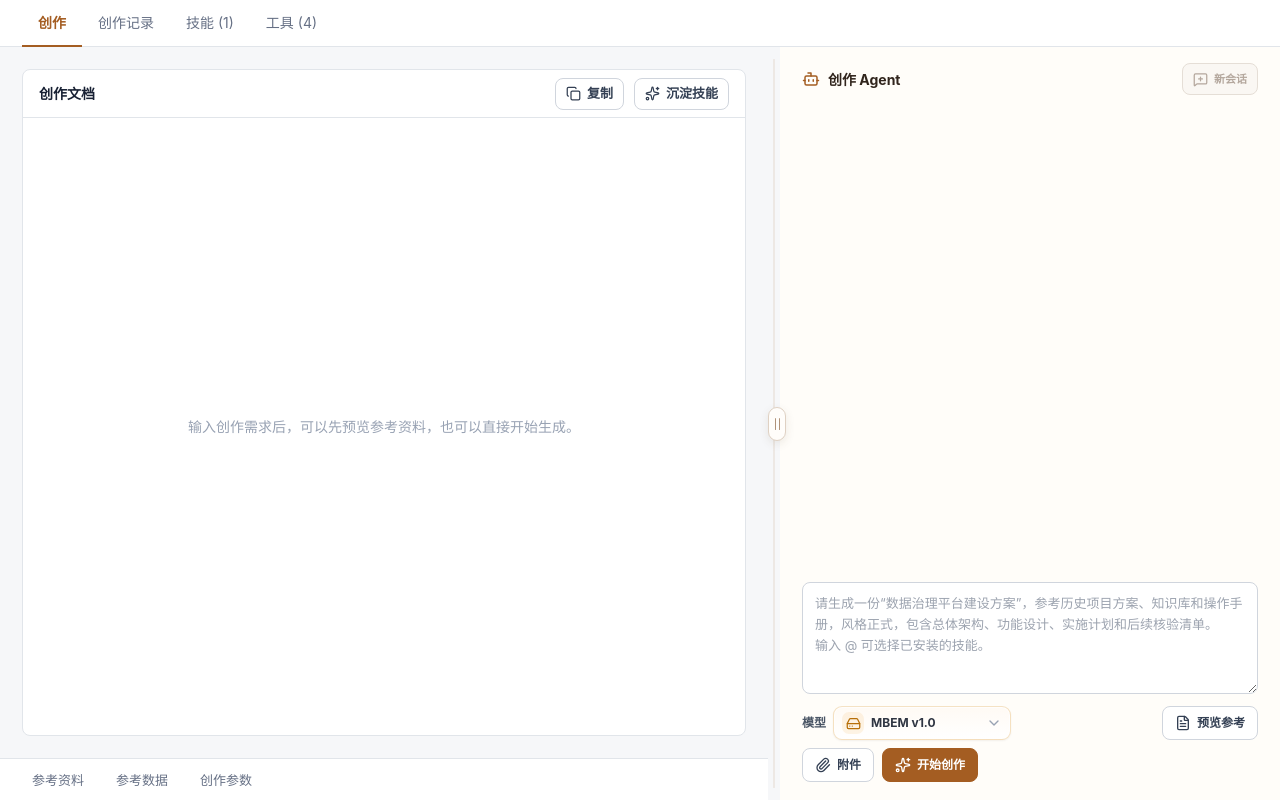
Test: 技能安装与使用 › 删除技能前要求二次确认
This screenshot has width=1280, height=800.
Click the button "技能 (1)" at coordinates (210, 24), box [170,0,250,47]
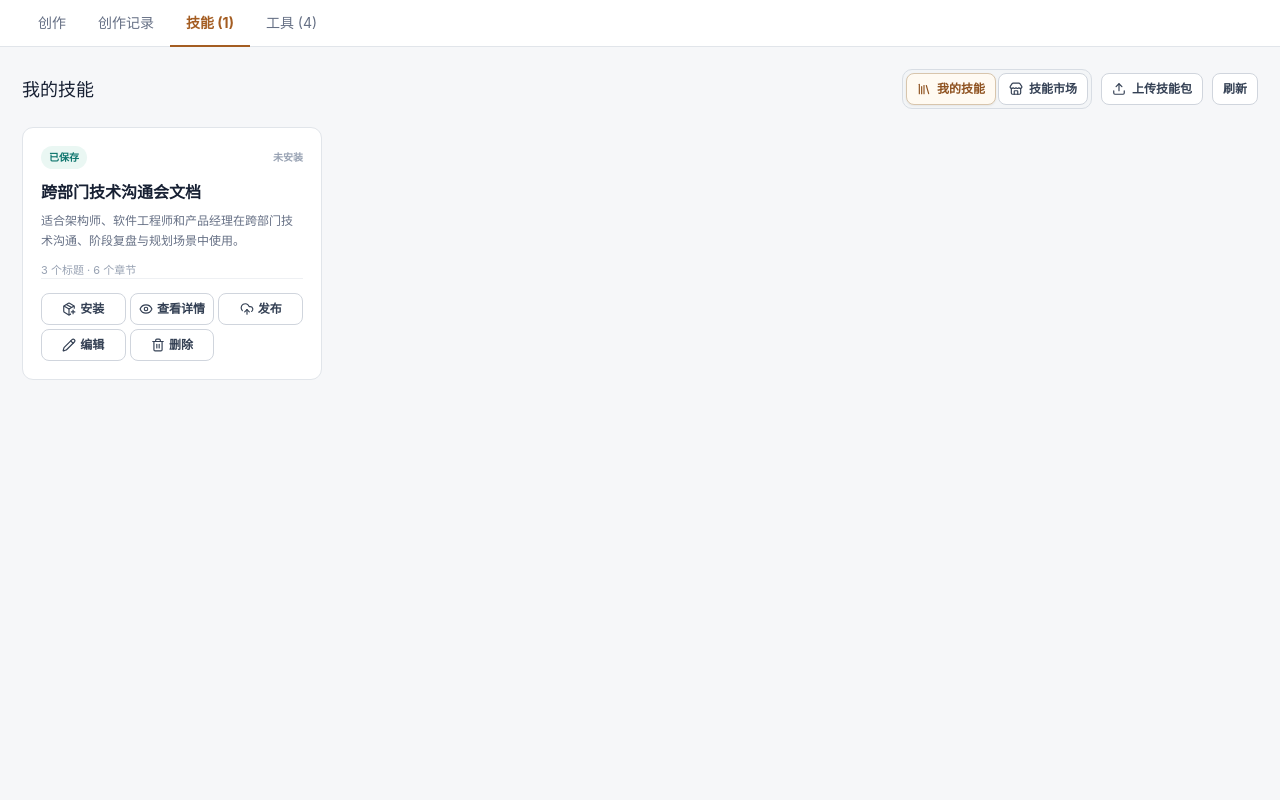
Click the button "删除" at coordinates (172, 345), box [130,329,214,361]
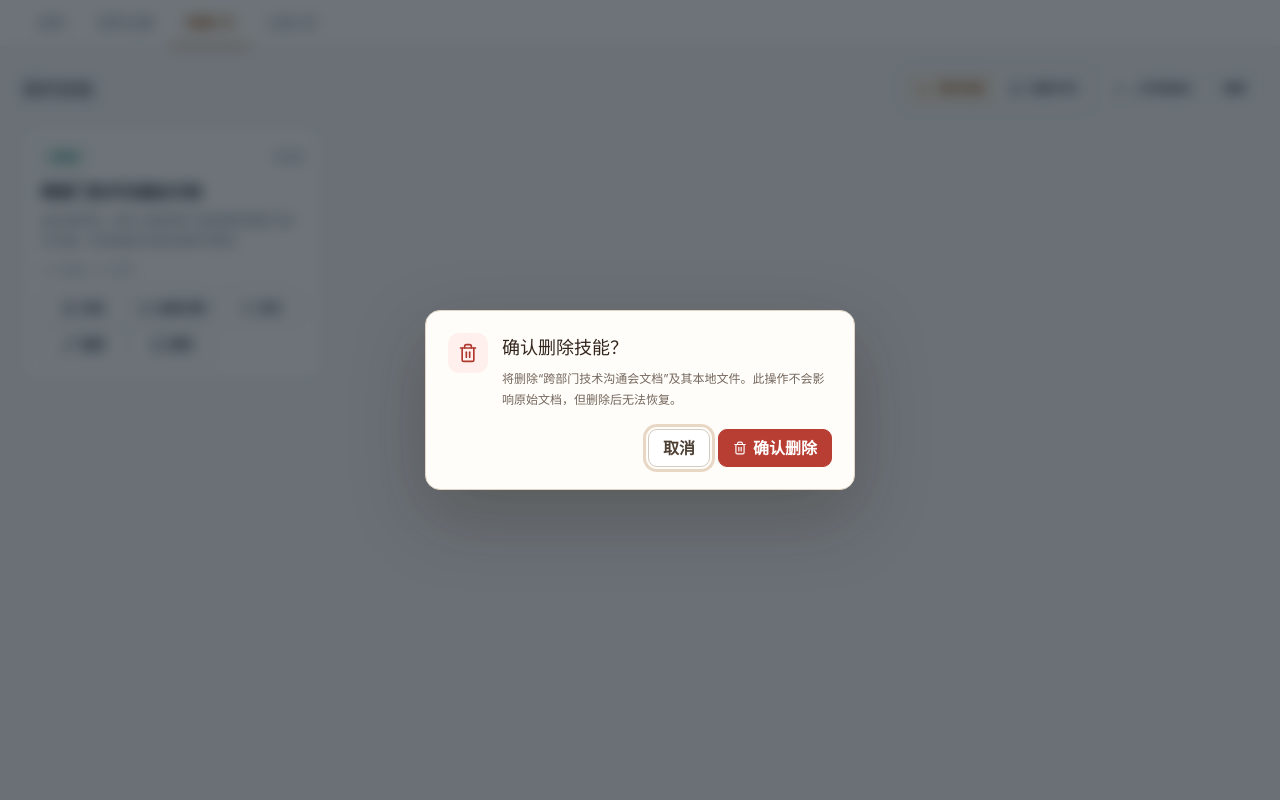
Click the button "取消" at coordinates (679, 448), box [648,429,710,467]
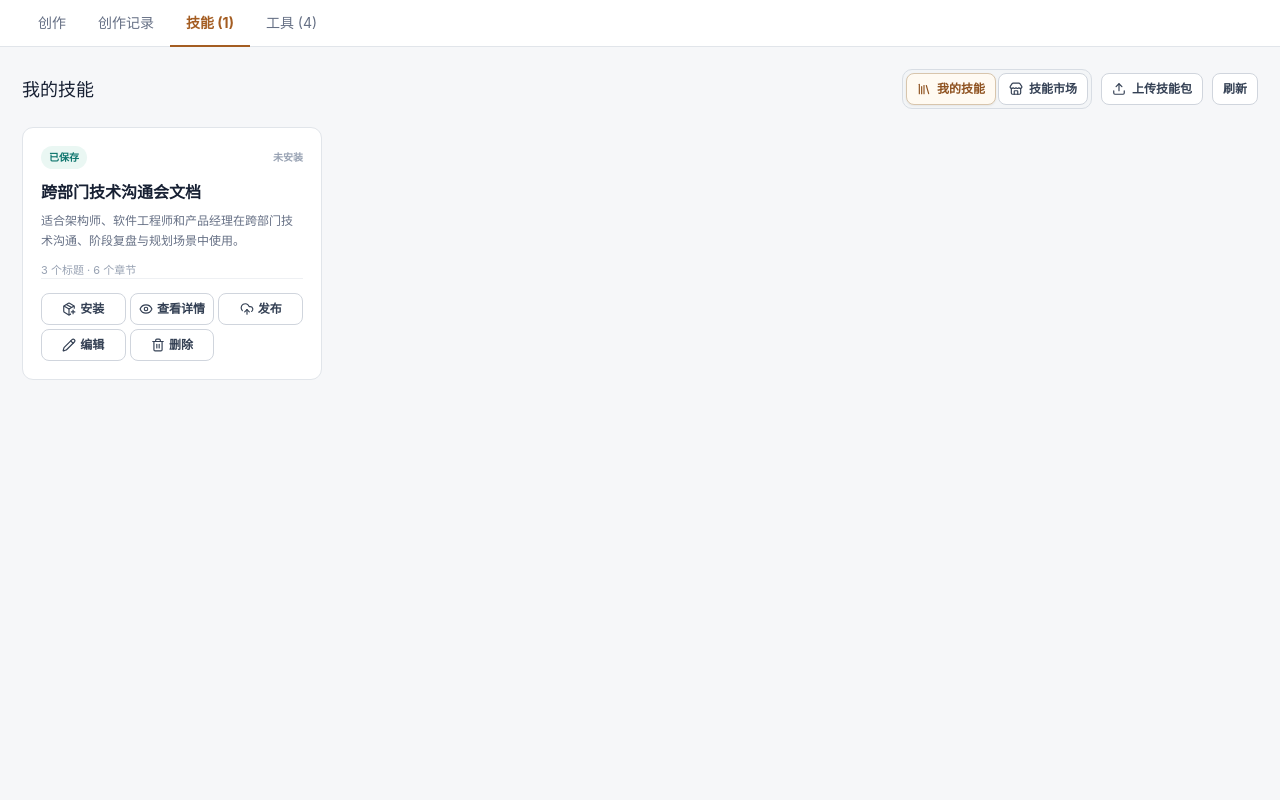
expect the dialog is gone: met
Click the button "删除" at coordinates (172, 345), box [130,329,214,361]
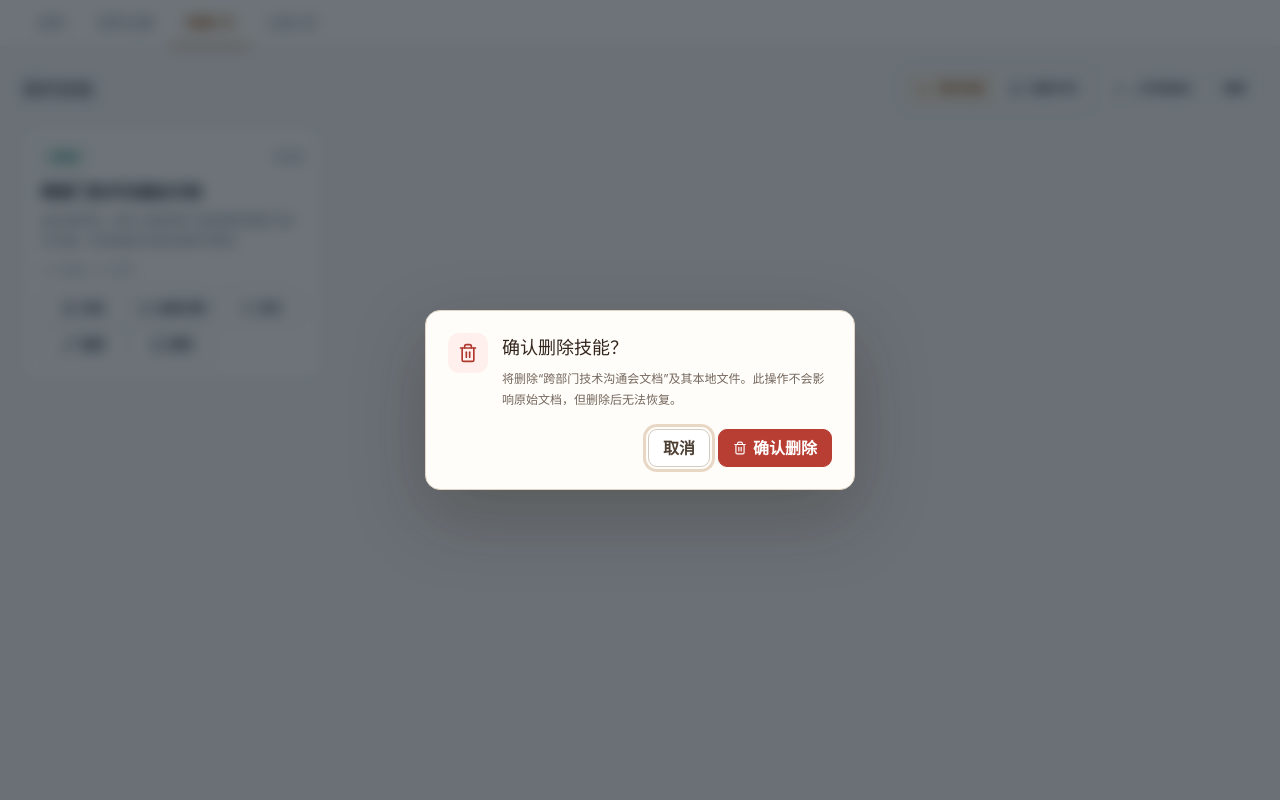
Click the button "确认删除" at coordinates (775, 448), box [718,429,832,467]
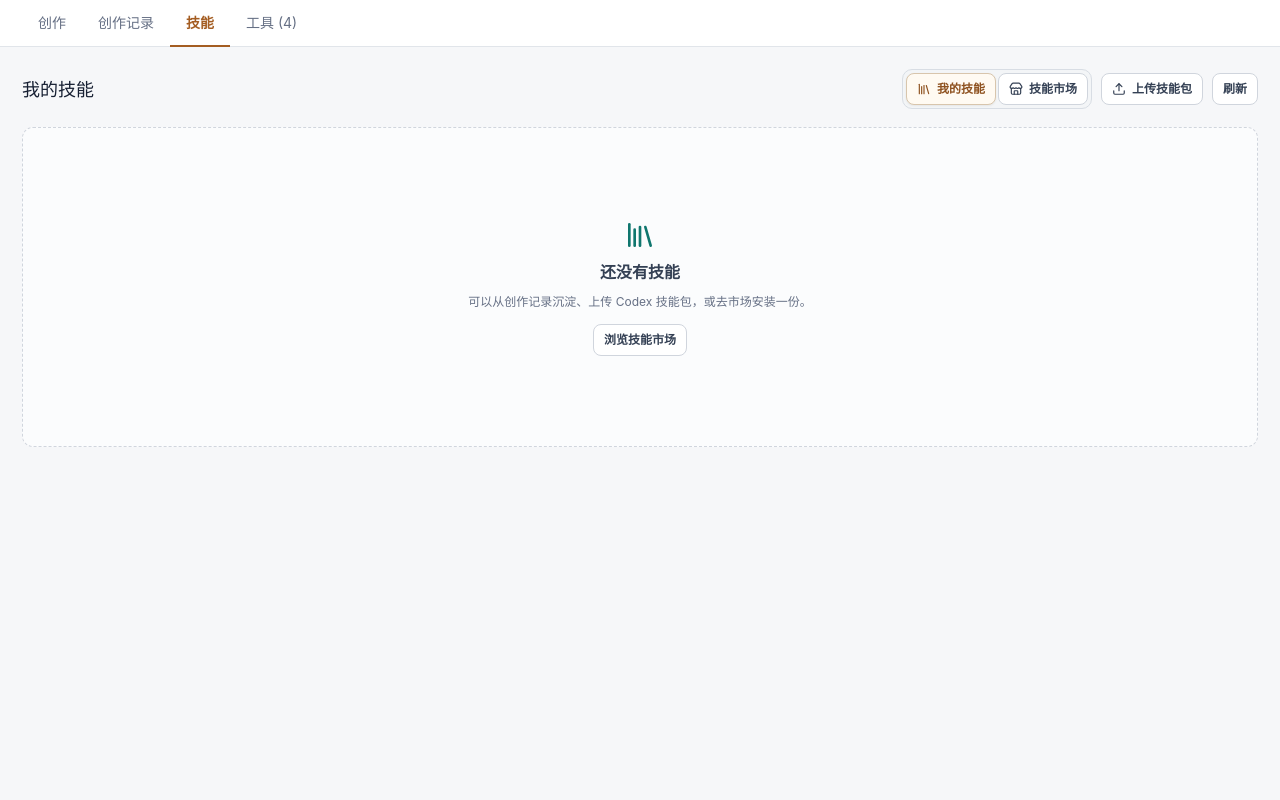
expect the text "还没有技能" is shown: met, box [600,260,680,284]
